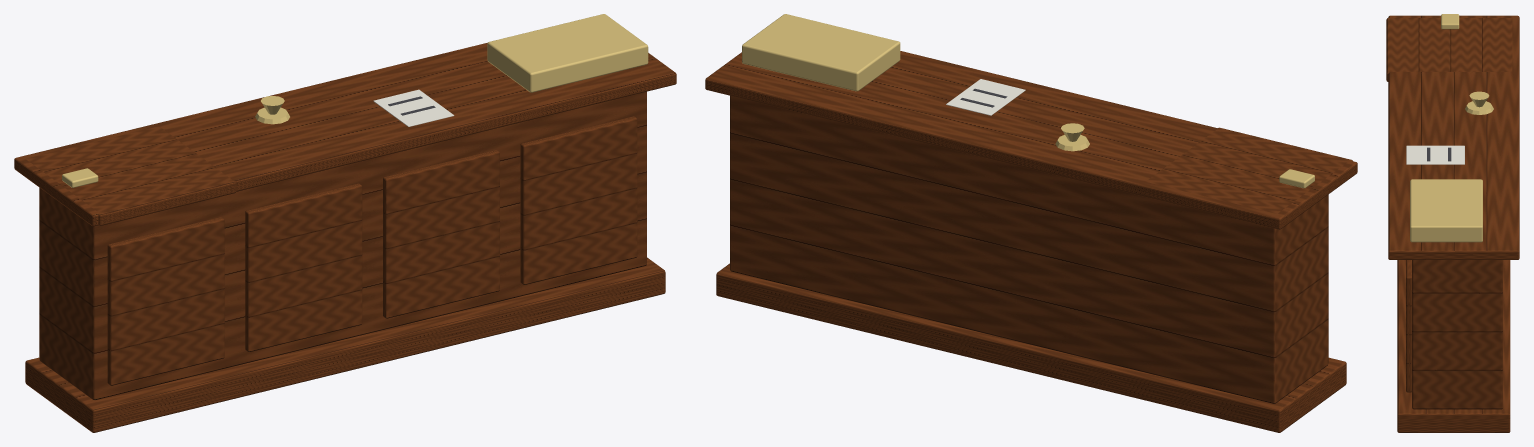
Rendered from printing-press-and-newspaper-office-counter-front-with-d13093c0__37777.glb.
3 views of the same model, side by side, from view 1: azimuth 30°, elevation 25°; view 2: azimuth 150°, elevation 25°; view 3: azimuth 270°, elevation 25° (orthographic). The views are drawn at different scales.
Parts seen in each view (by area): view 1: counter-front-with-hatch, hatch/oak; view 2: counter-front-with-hatch, hatch/oak; view 3: counter-front-with-hatch, hatch/oak, hatch/brass.
Boxes of the visible parts, x1,y1,x2,y2 form: counter-front-with-hatch: [14, 14, 676, 432]; hatch/oak: [26, 126, 236, 225]; counter-front-with-hatch: [705, 14, 1357, 432]; hatch/oak: [1145, 127, 1352, 213]; counter-front-with-hatch: [1388, 15, 1519, 432]; hatch/oak: [1386, 18, 1512, 81]; hatch/brass: [1441, 14, 1459, 29].
Size of the model in its own units: 3.06 by 1.23 by 0.7299.
4 materials, 1 textured.
